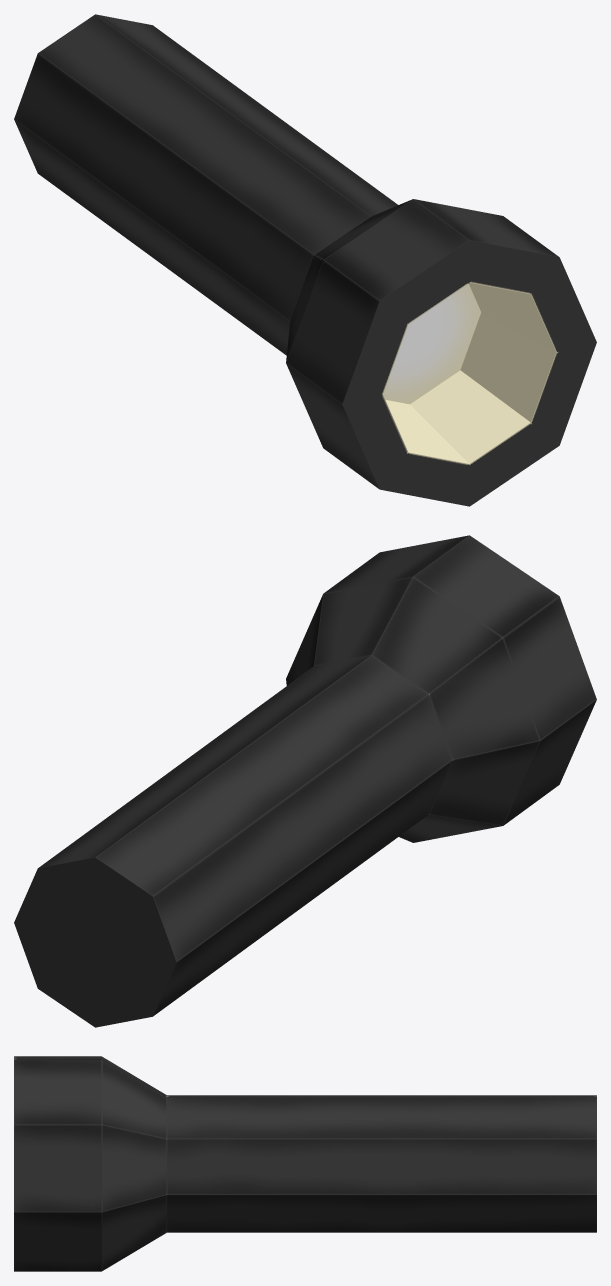
Rendered from Flashlight01.fbx.
3 views of the same model, one above another, from view 1: azimuth 30°, elevation 25°; view 2: azimuth 150°, elevation 25°; view 3: azimuth 270°, elevation 25° (orthographic). The views are drawn at different scales.
Visible parts, largest first — view 1: Flashlight01; view 2: Flashlight01; view 3: Flashlight01.
Part boxes in pixels (x1,y1,x2,y2): Flashlight01: [14, 14, 596, 506]; Flashlight01: [14, 535, 596, 1027]; Flashlight01: [14, 1056, 596, 1271].
Size of the model in its own units: 31.26 by 31.26 by 79.63.
Materials: 1 (1 with a texture image).
